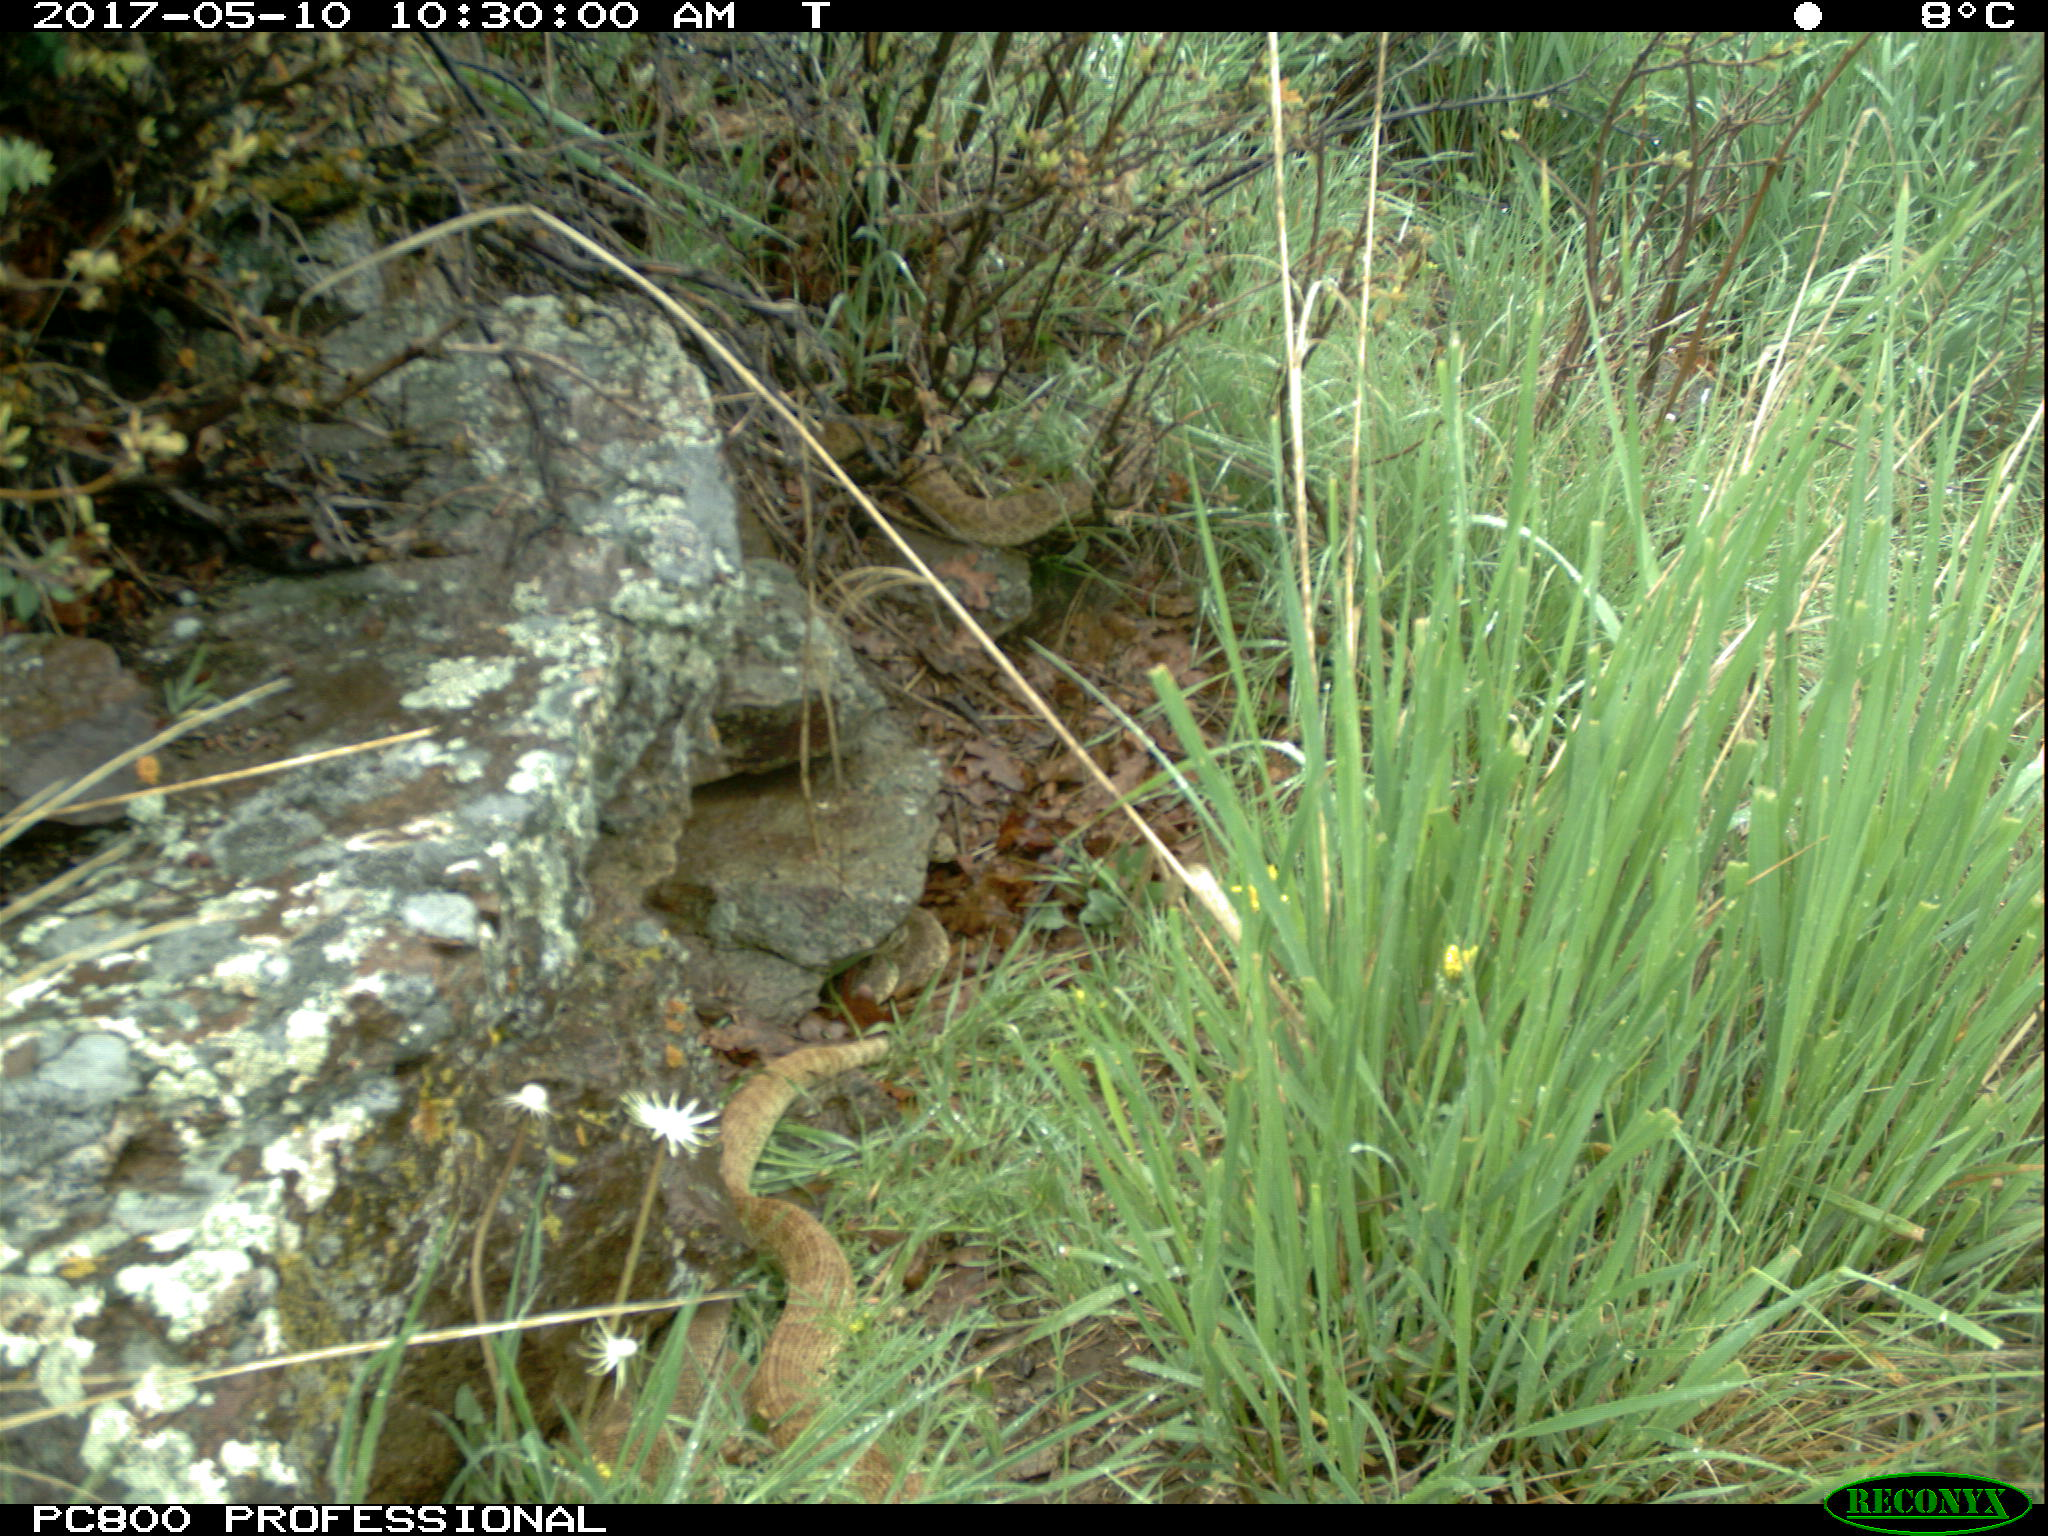snake: (714, 1034, 922, 1505), (814, 413, 1097, 545), (627, 1317, 761, 1470), (868, 904, 951, 995)
